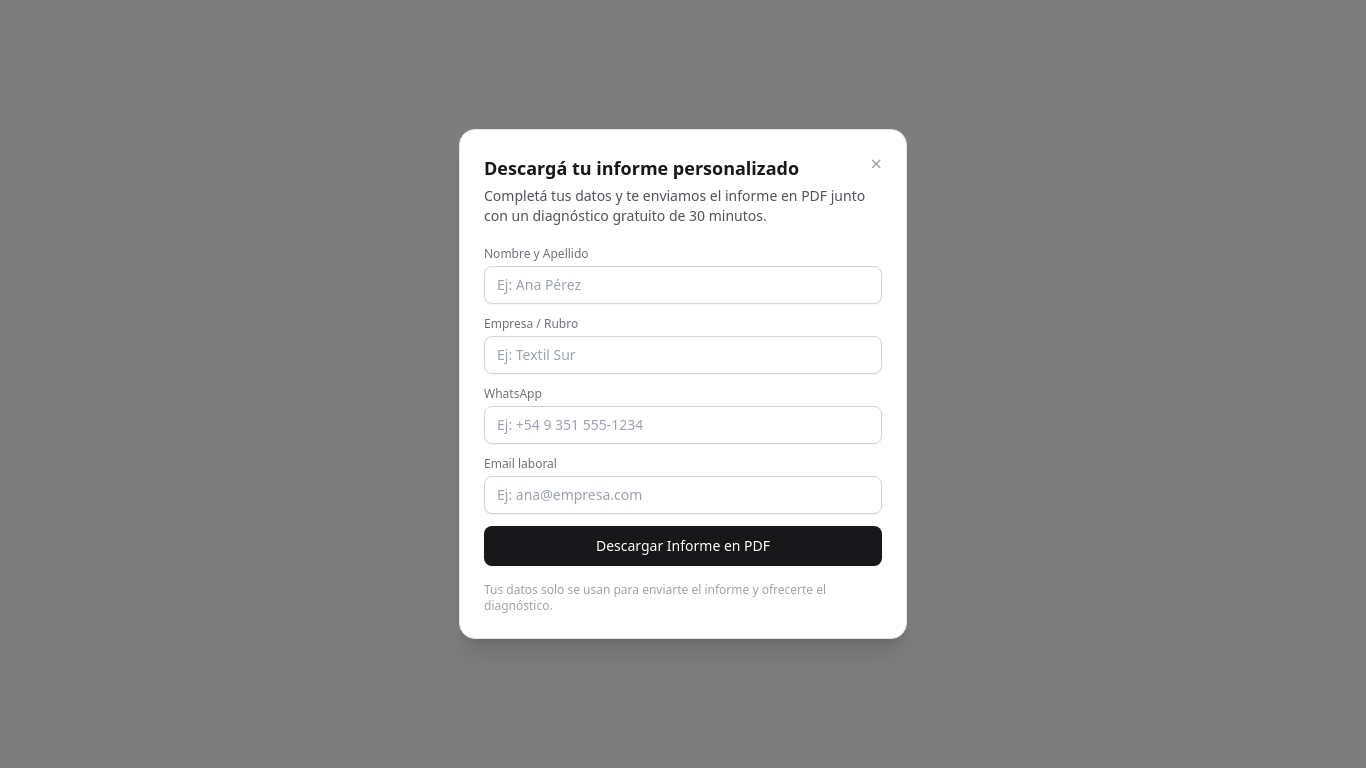
Test: LeadModal › fetch 400 → mensaje error
Type "Ana Pérez" into the field with test id "lead-nombre" at (683, 285), box [484,266,882,304]
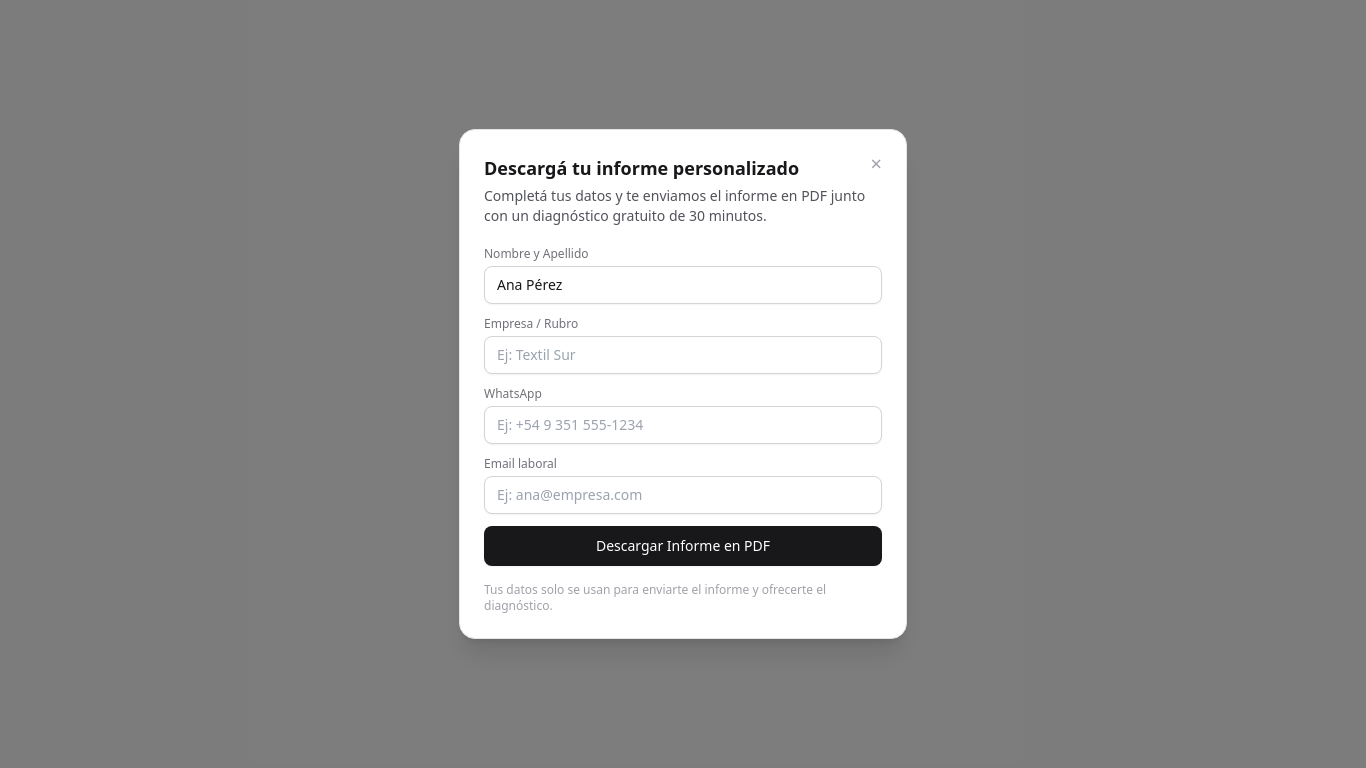
Type "Textil Sur" into the field with test id "lead-empresa" at (683, 355), box [484,336,882,374]
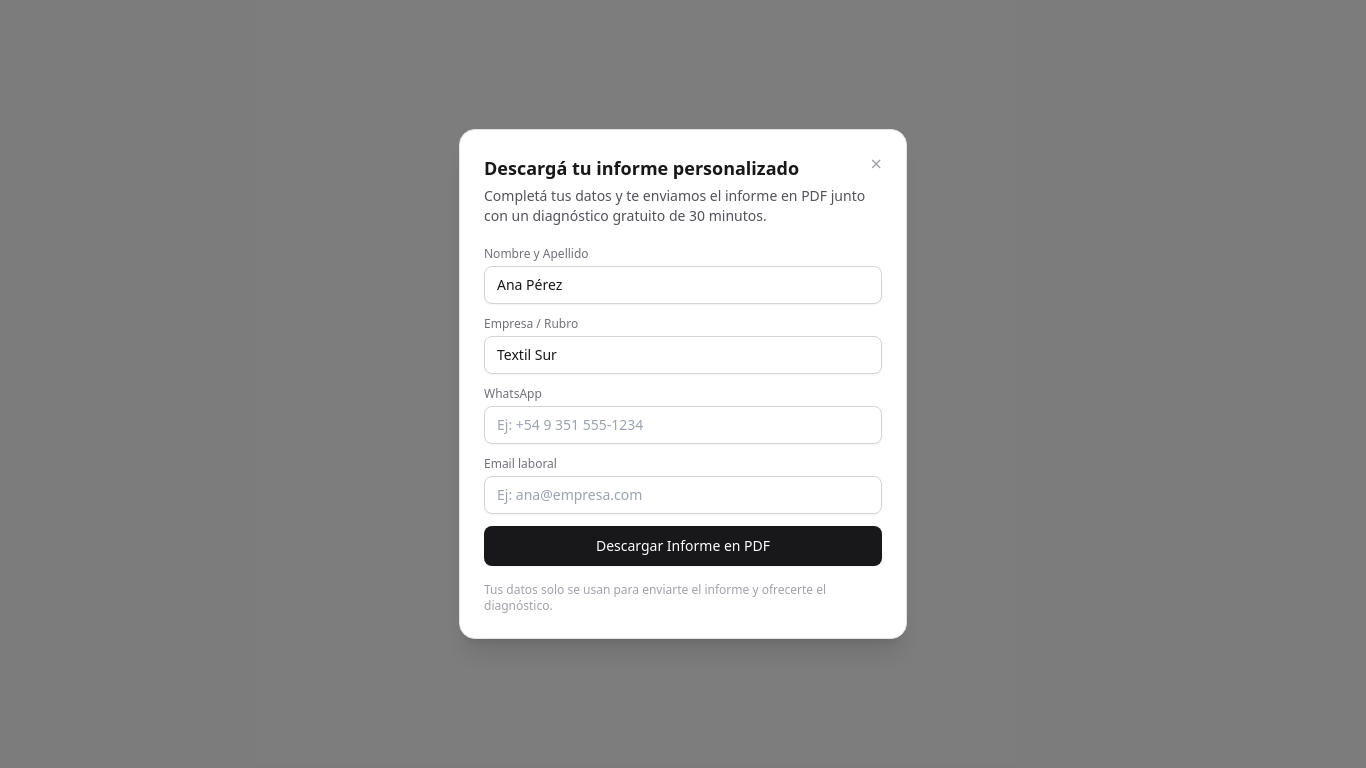
Type "+54 9 351 555-1234" into the field with test id "lead-whatsapp" at (683, 425), box [484,406,882,444]
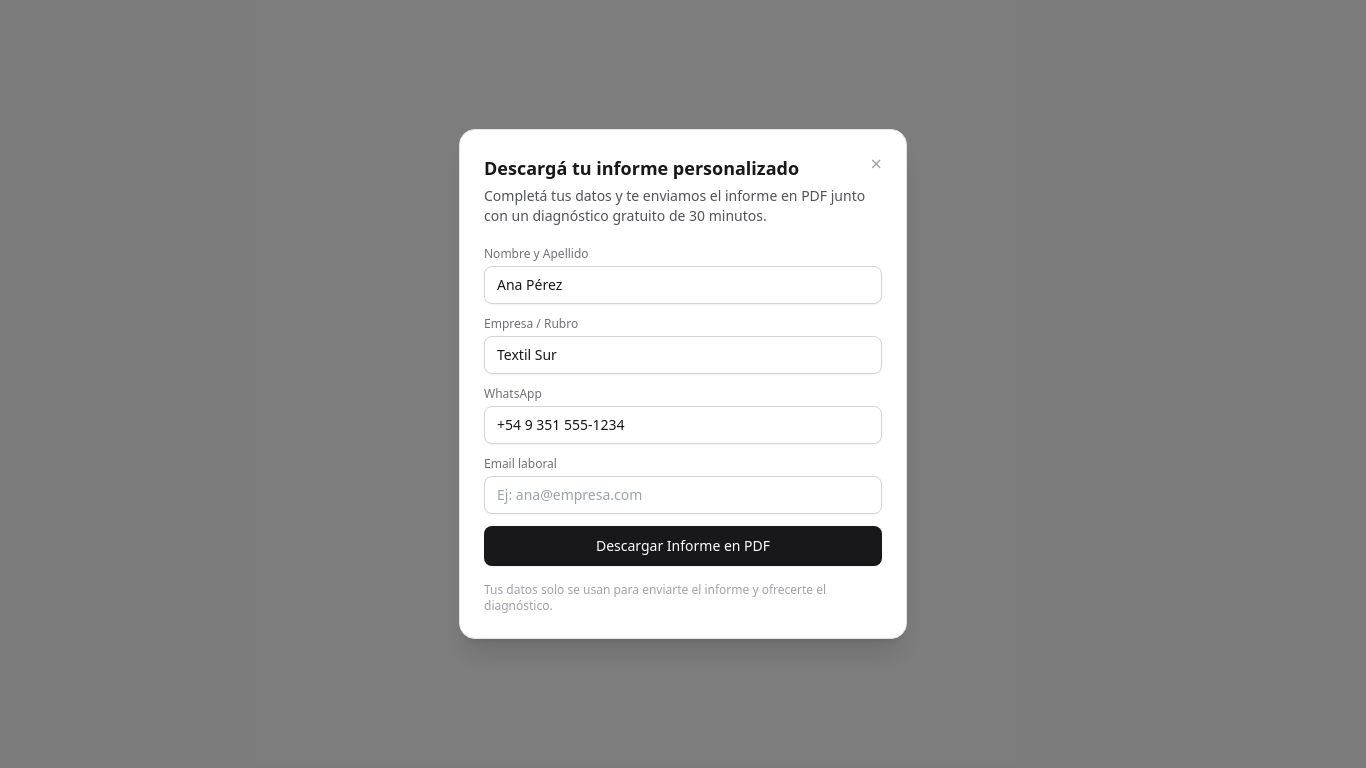
Type "ana@empresa.com" into the field with test id "lead-email" at (683, 495), box [484,476,882,514]
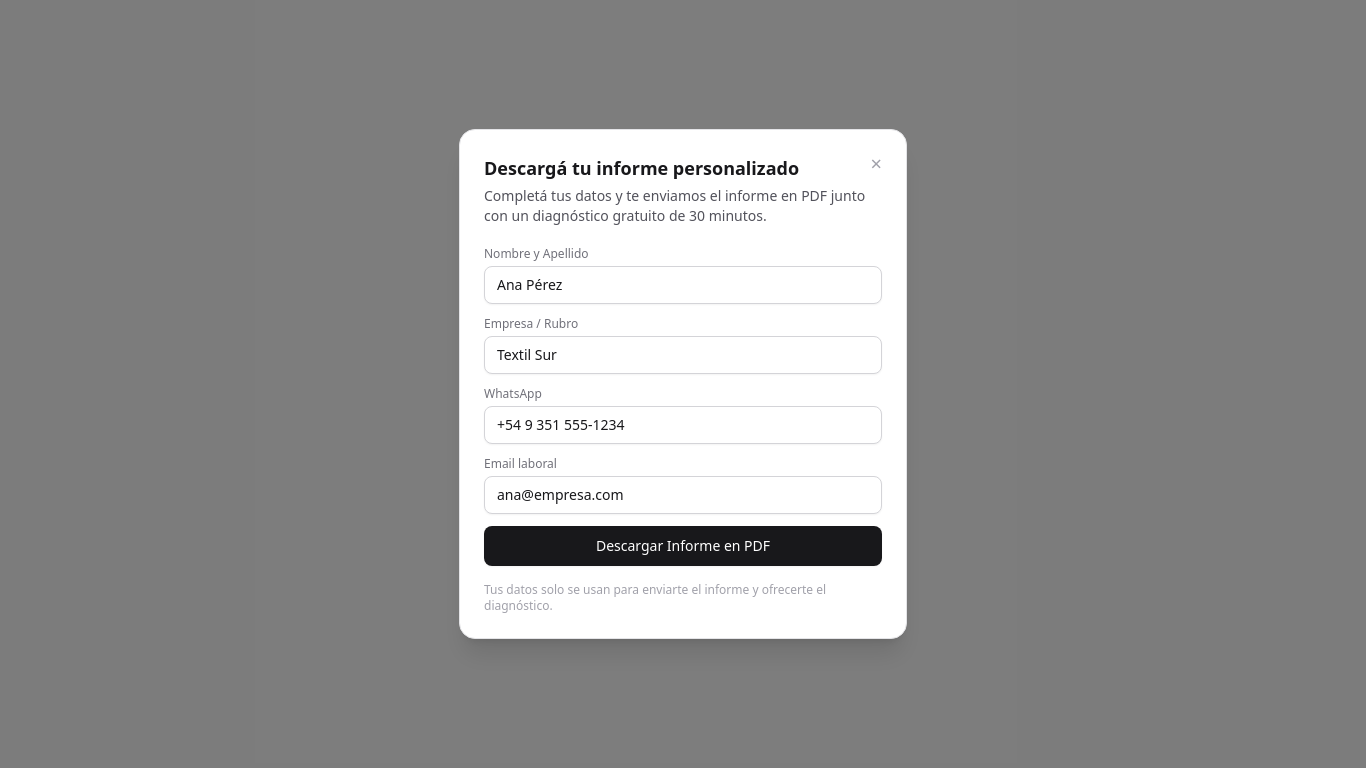
Click the button with test id "leads-submit" at (683, 546), box [484,526,882,566]
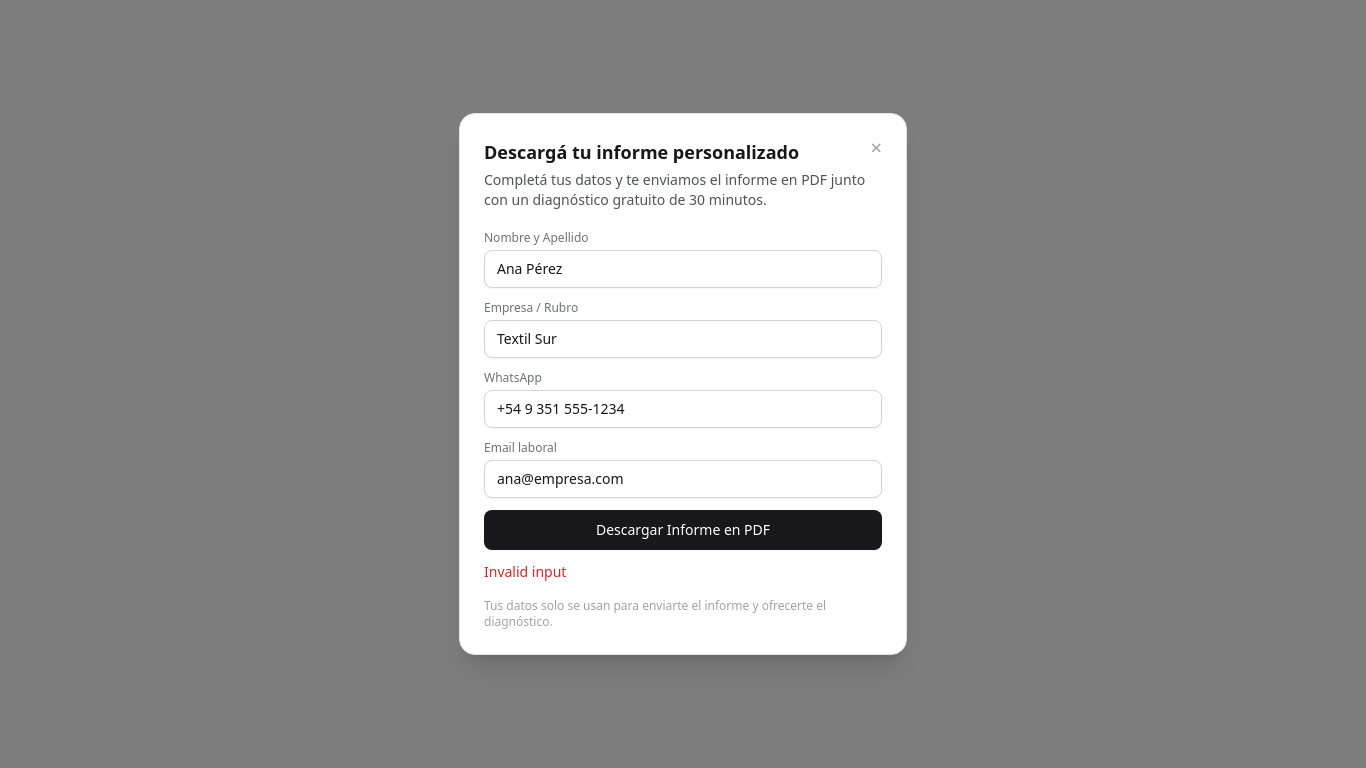
Result: the message with test id "leads-error" reads "Invalid input" at [484,562,566,581]
